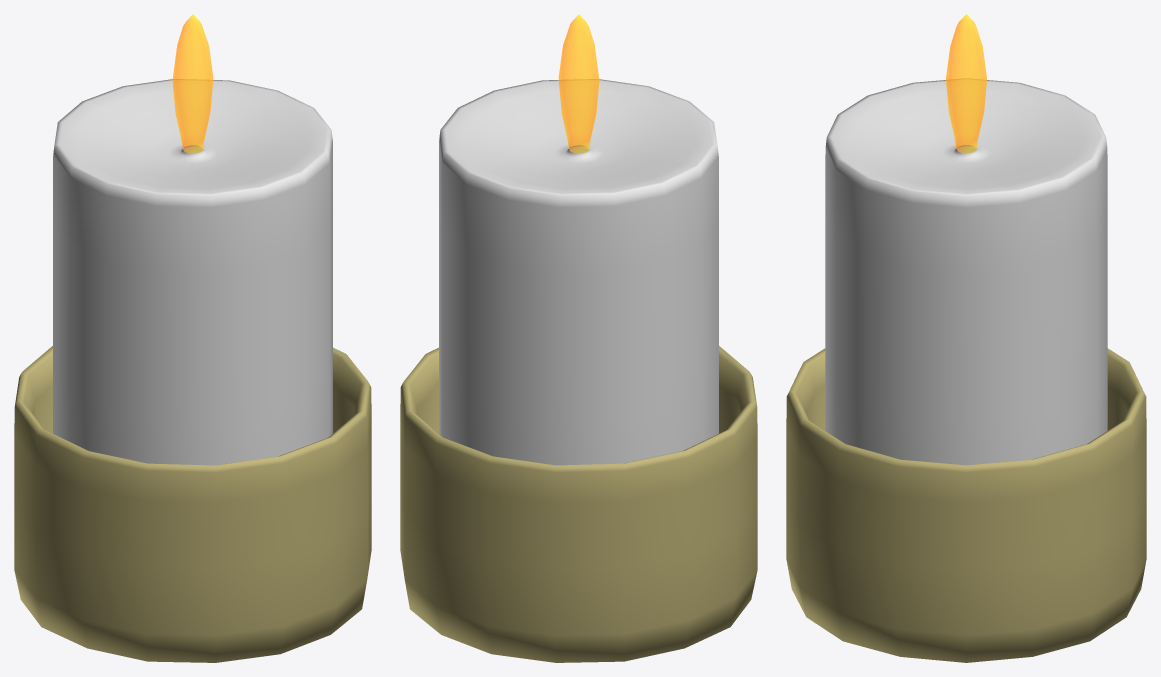
File: Candle_3.fbx
The picture shows the model from 3 angles, left to right: view 1: azimuth 30°, elevation 25°; view 2: azimuth 150°, elevation 25°; view 3: azimuth 270°, elevation 25°; orthographic projection.
Visible parts, largest first — view 1: Candle_3; view 2: Candle_3; view 3: Candle_3.
Boxes of the visible parts, bbox=[...] form: Candle_3: bbox=[14, 14, 371, 662]; Candle_3: bbox=[400, 14, 757, 662]; Candle_3: bbox=[786, 14, 1146, 662].
Size of the model in its own units: 9.11 by 16.23 by 9.11.
